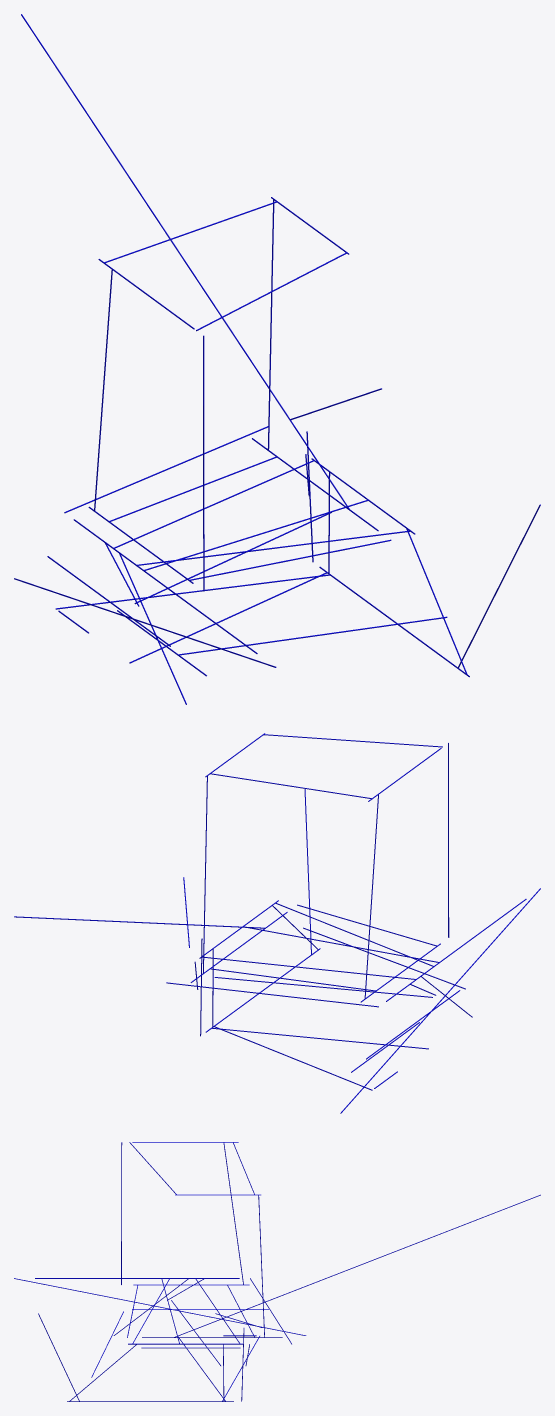
File: corrected_3d_strokes.glb
3 views of the same model, one above another, from view 1: azimuth 30°, elevation 25°; view 2: azimuth 150°, elevation 25°; view 3: azimuth 270°, elevation 25° (orthographic). The views are drawn at different scales.
Parts seen in each view (by area): view 1: world; view 2: world; view 3: world.
Part boxes in pixels (x1=…): world: x1=14, y1=14, x2=540, y2=704; world: x1=14, y1=733, x2=540, y2=1113; world: x1=14, y1=1142, x2=540, y2=1401.
Size of the model in its own units: 9.58 by 11.43 by 27.21.
